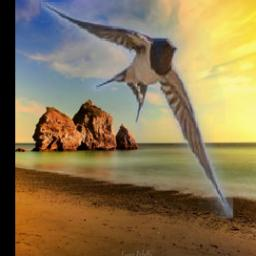Swallow: (41, 2, 233, 218)
